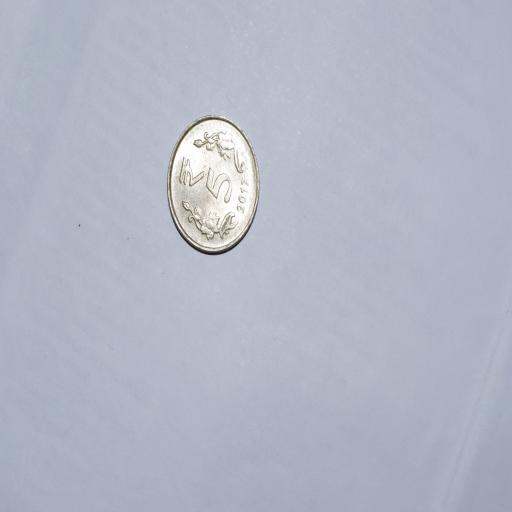rupee5: (164, 113, 262, 258)
